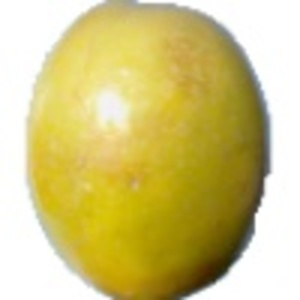maracujá: (21, 1, 274, 300)
